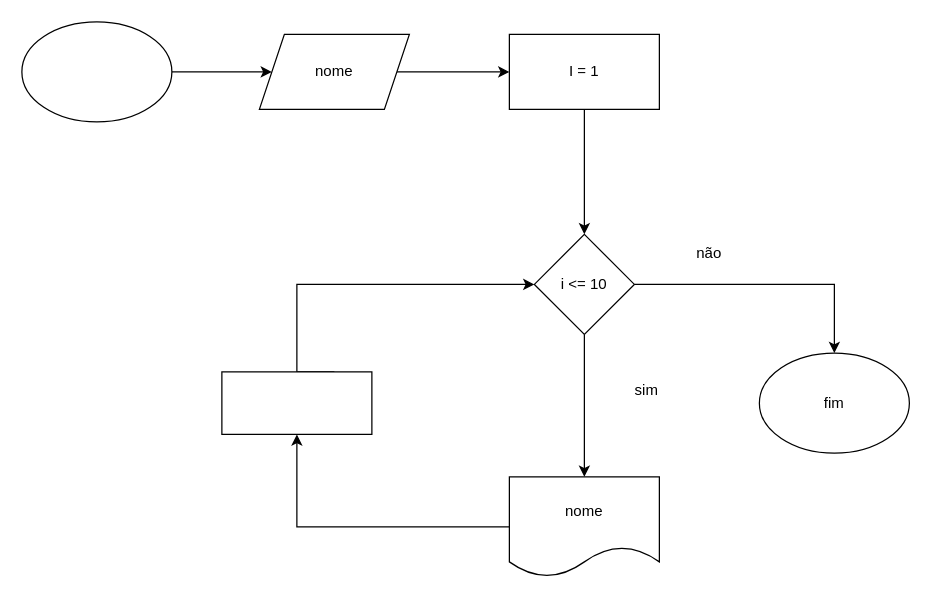
Some shapes in this 931 by 599 pixel diagram are drawn without their labels. The box of each missing label's shape, as (x1, y1, x2, y2) in pixels:
i++: (221, 371, 372, 434)
início: (21, 21, 172, 122)
